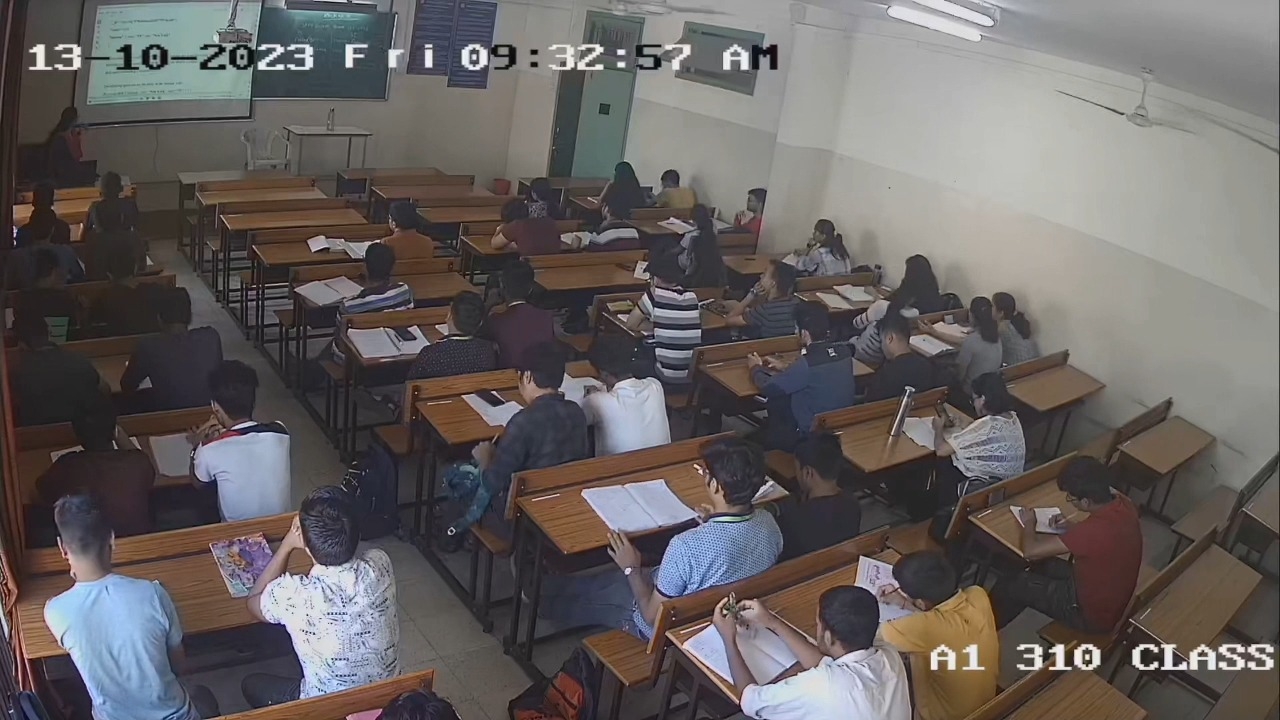cell-phones: (473, 380, 505, 408), (930, 397, 952, 430), (392, 322, 416, 346), (605, 295, 634, 313), (942, 311, 957, 326)
person: (489, 346, 591, 464), (928, 373, 1027, 478), (390, 290, 494, 376), (626, 254, 704, 345), (934, 296, 1004, 372)
